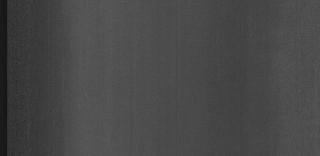silk spot: (288, 5, 320, 126)
